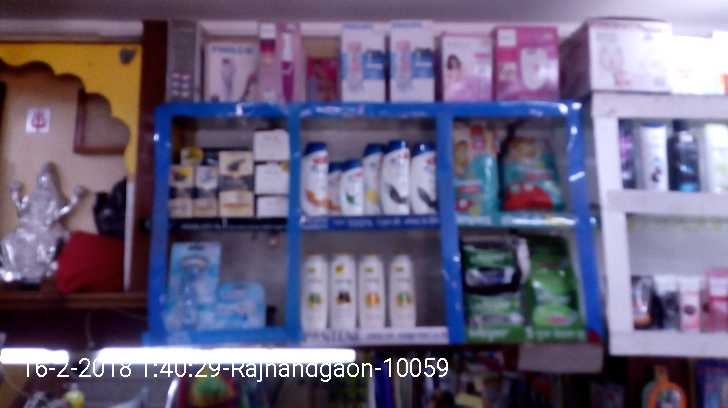venus: (173, 241, 215, 325), (215, 280, 262, 324)
